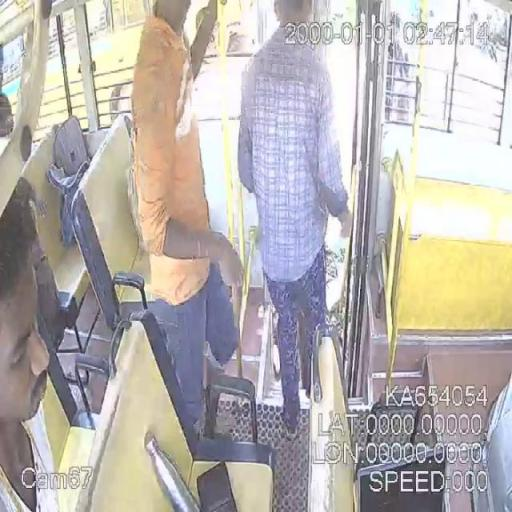persona: (128, 0, 245, 448), (235, 1, 354, 439), (0, 176, 59, 511)
